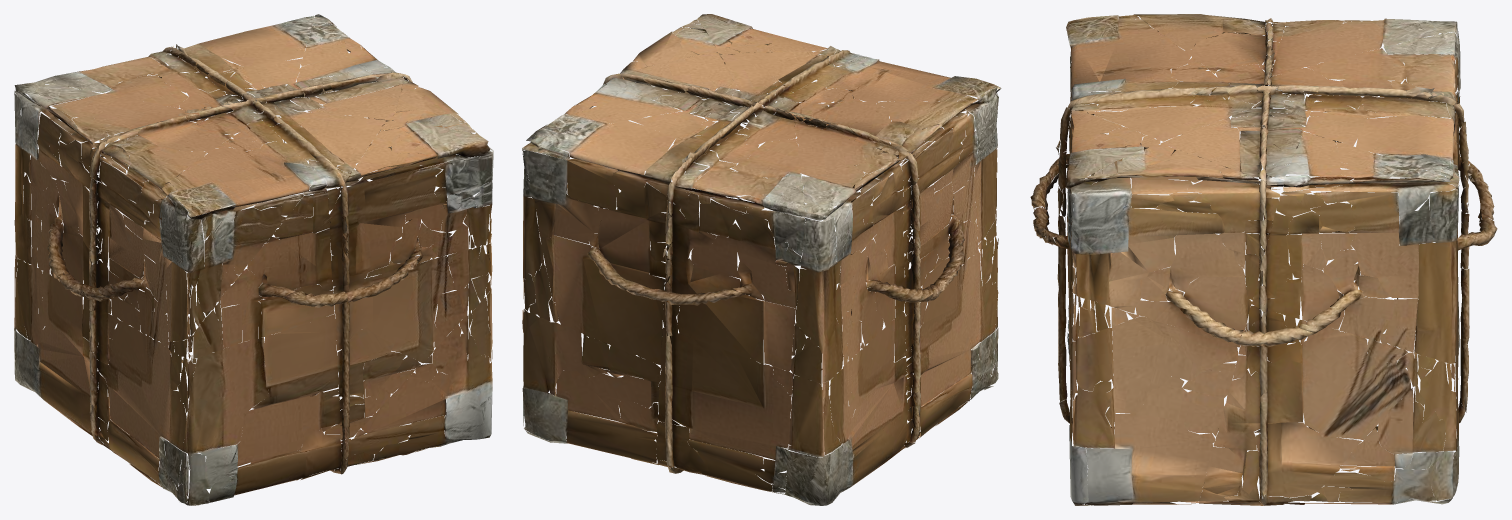
File: cassa.glb
3 renders of one model, left to right at view 1: azimuth 30°, elevation 25°; view 2: azimuth 150°, elevation 25°; view 3: azimuth 270°, elevation 25°, orthographic. The views are drawn at different scales.
Parts seen in each view (by area): view 1: tripo_node_41e1d8e0-bff2-42a0-9d19-9d27a70a8200; view 2: tripo_node_41e1d8e0-bff2-42a0-9d19-9d27a70a8200; view 3: tripo_node_41e1d8e0-bff2-42a0-9d19-9d27a70a8200.
Part boxes in pixels (x1=…): tripo_node_41e1d8e0-bff2-42a0-9d19-9d27a70a8200: x1=14, y1=14, x2=493, y2=505; tripo_node_41e1d8e0-bff2-42a0-9d19-9d27a70a8200: x1=522, y1=14, x2=1001, y2=505; tripo_node_41e1d8e0-bff2-42a0-9d19-9d27a70a8200: x1=1030, y1=14, x2=1497, y2=505.
Bounding box in the file's own units: 0.9943 × 0.817 × 1.
2 materials, 1 textured.
